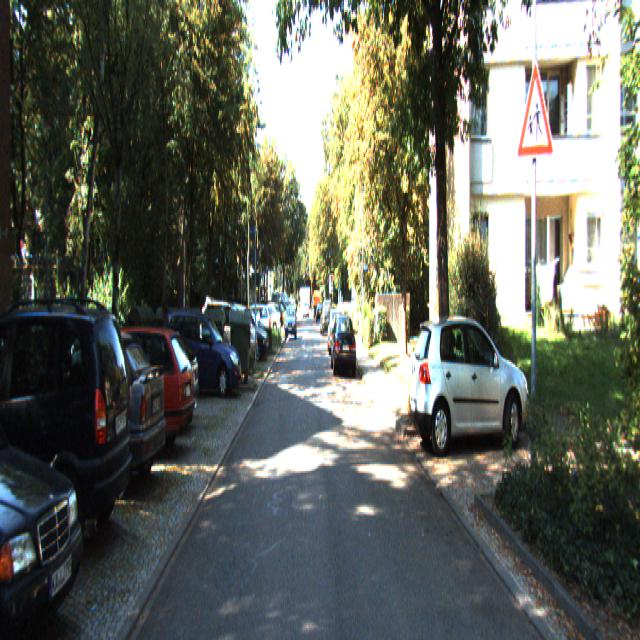Car: (0, 287, 137, 573), (2, 325, 169, 508), (0, 336, 88, 638), (70, 318, 198, 468), (409, 309, 533, 457), (163, 306, 244, 401), (222, 305, 270, 364), (330, 312, 358, 376)
